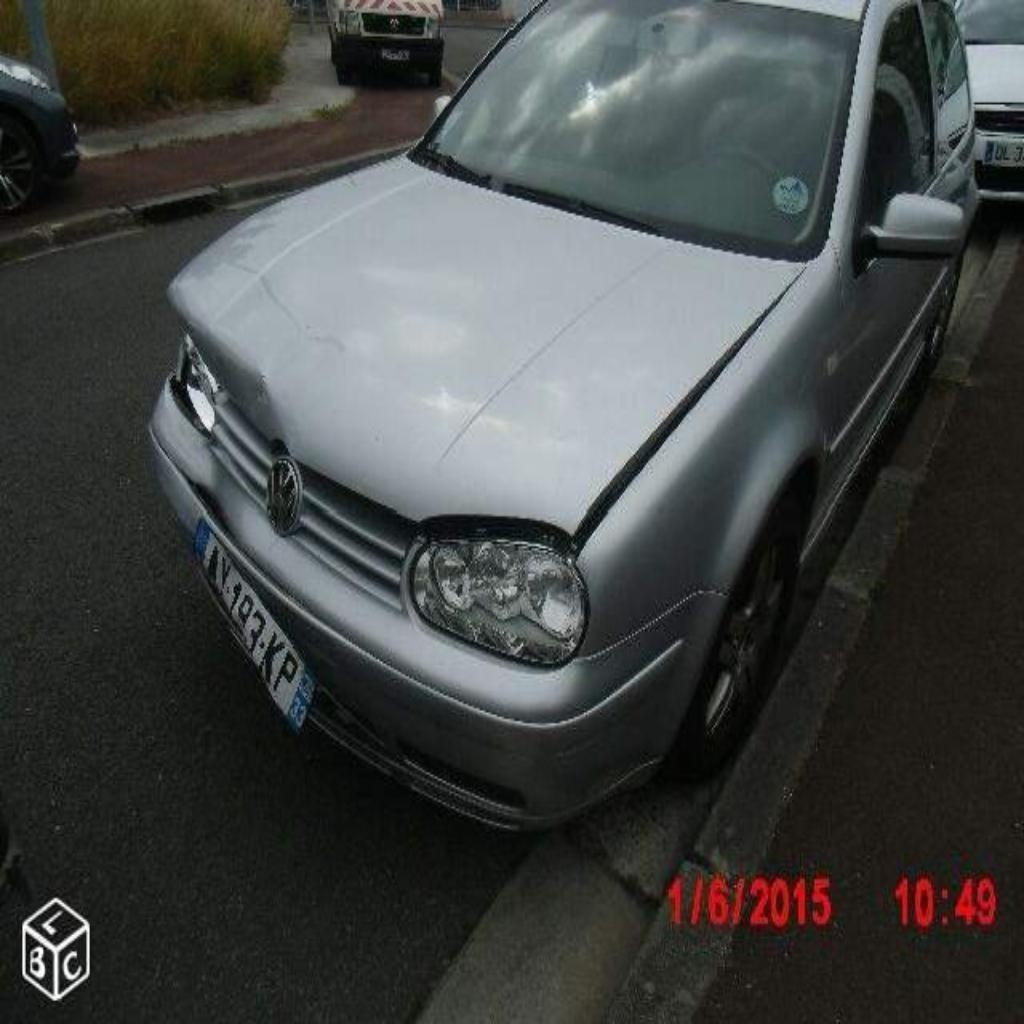Broken-glass: (172, 345, 226, 429)
Smashed: (140, 286, 298, 493)
